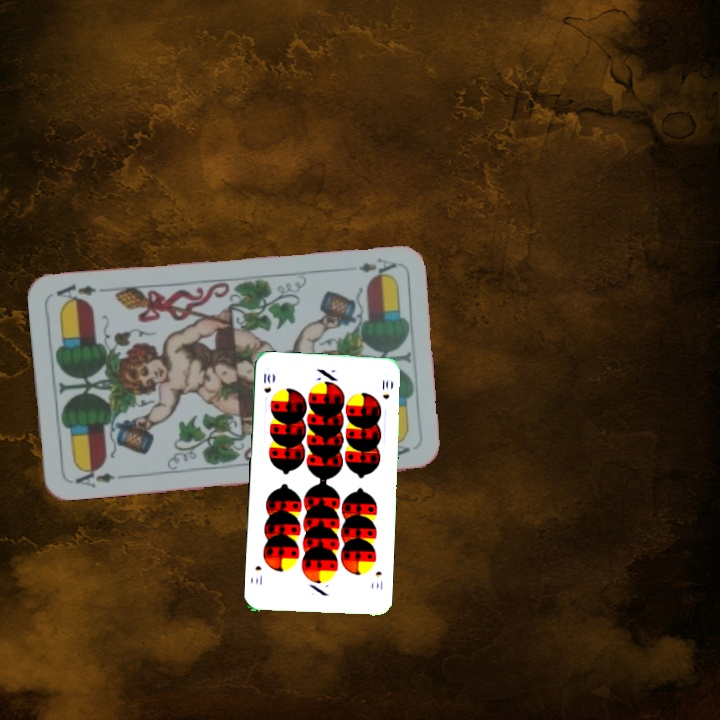EA: (71, 462, 126, 490), (354, 254, 400, 281)
S10: (260, 369, 273, 395), (372, 567, 385, 592)
